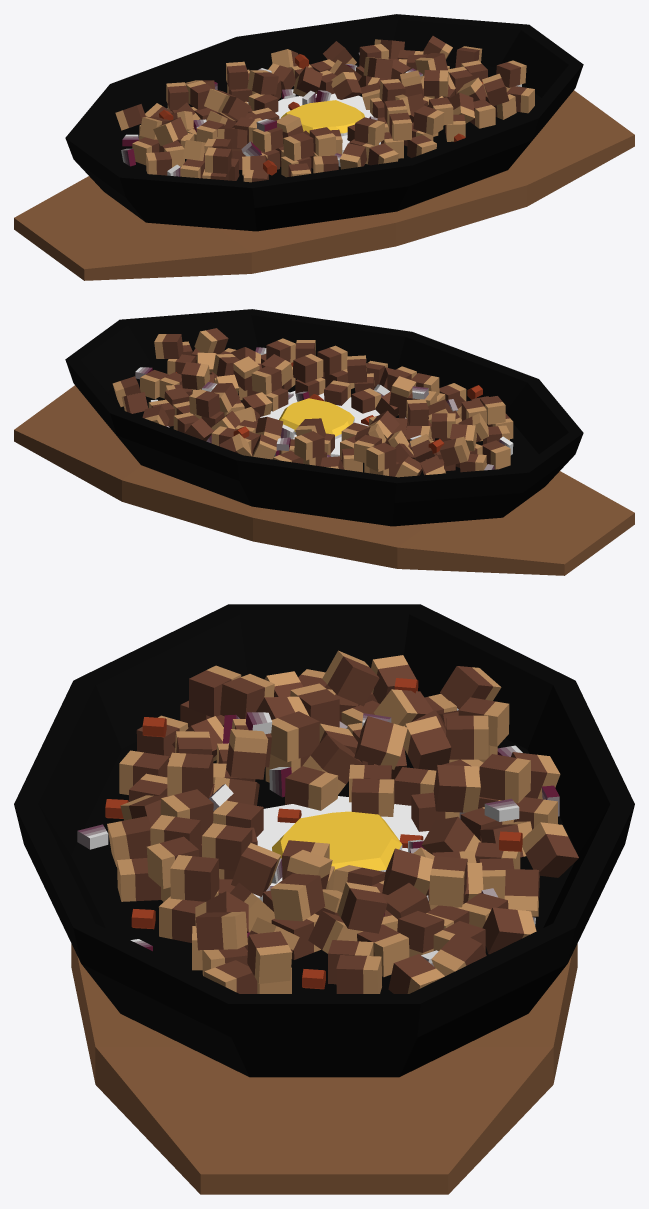
Rendered from Pork Sisig.fbx.
3 renders of one model, top to bottom at view 1: azimuth 30°, elevation 25°; view 2: azimuth 150°, elevation 25°; view 3: azimuth 270°, elevation 25°, orthographic. The views are drawn at different scales.
Visible parts, largest first — view 1: Pork Sisig; view 2: Pork Sisig; view 3: Pork Sisig.
Boxes of the visible parts, left/top/right/bottom form: Pork Sisig: left=14, top=14, right=634, bottom=280; Pork Sisig: left=14, top=309, right=634, bottom=575; Pork Sisig: left=14, top=604, right=634, bottom=1194.
Bounding box in the file's own units: 161 × 29.75 × 88.92.
